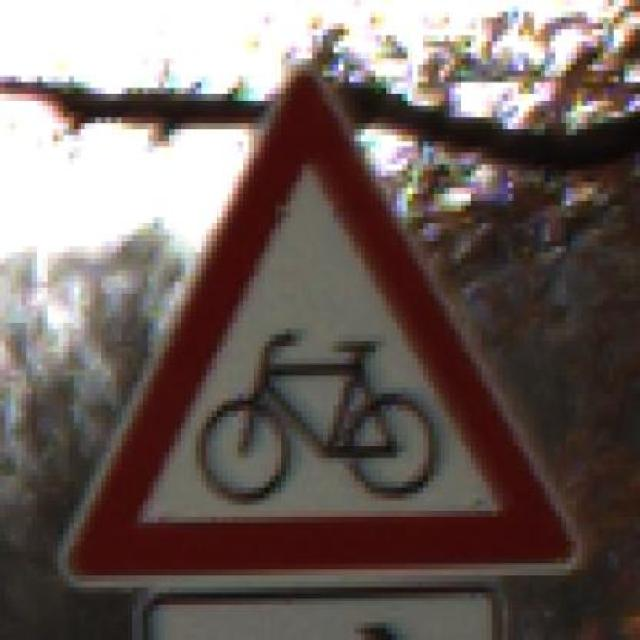CYCLE ROUTE AHEAD WARNING: (47, 41, 598, 587)
